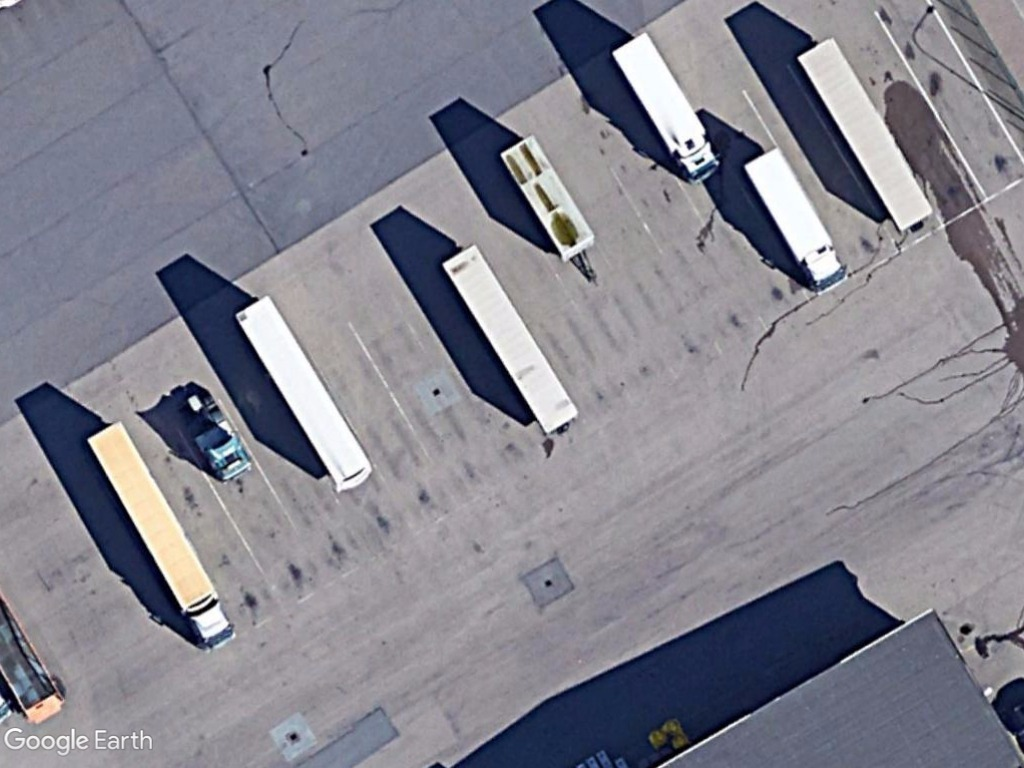longvehicle: (73, 420, 243, 657)
truck: (610, 31, 726, 187), (740, 146, 852, 298)
